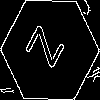Z: (25, 24, 73, 74)
